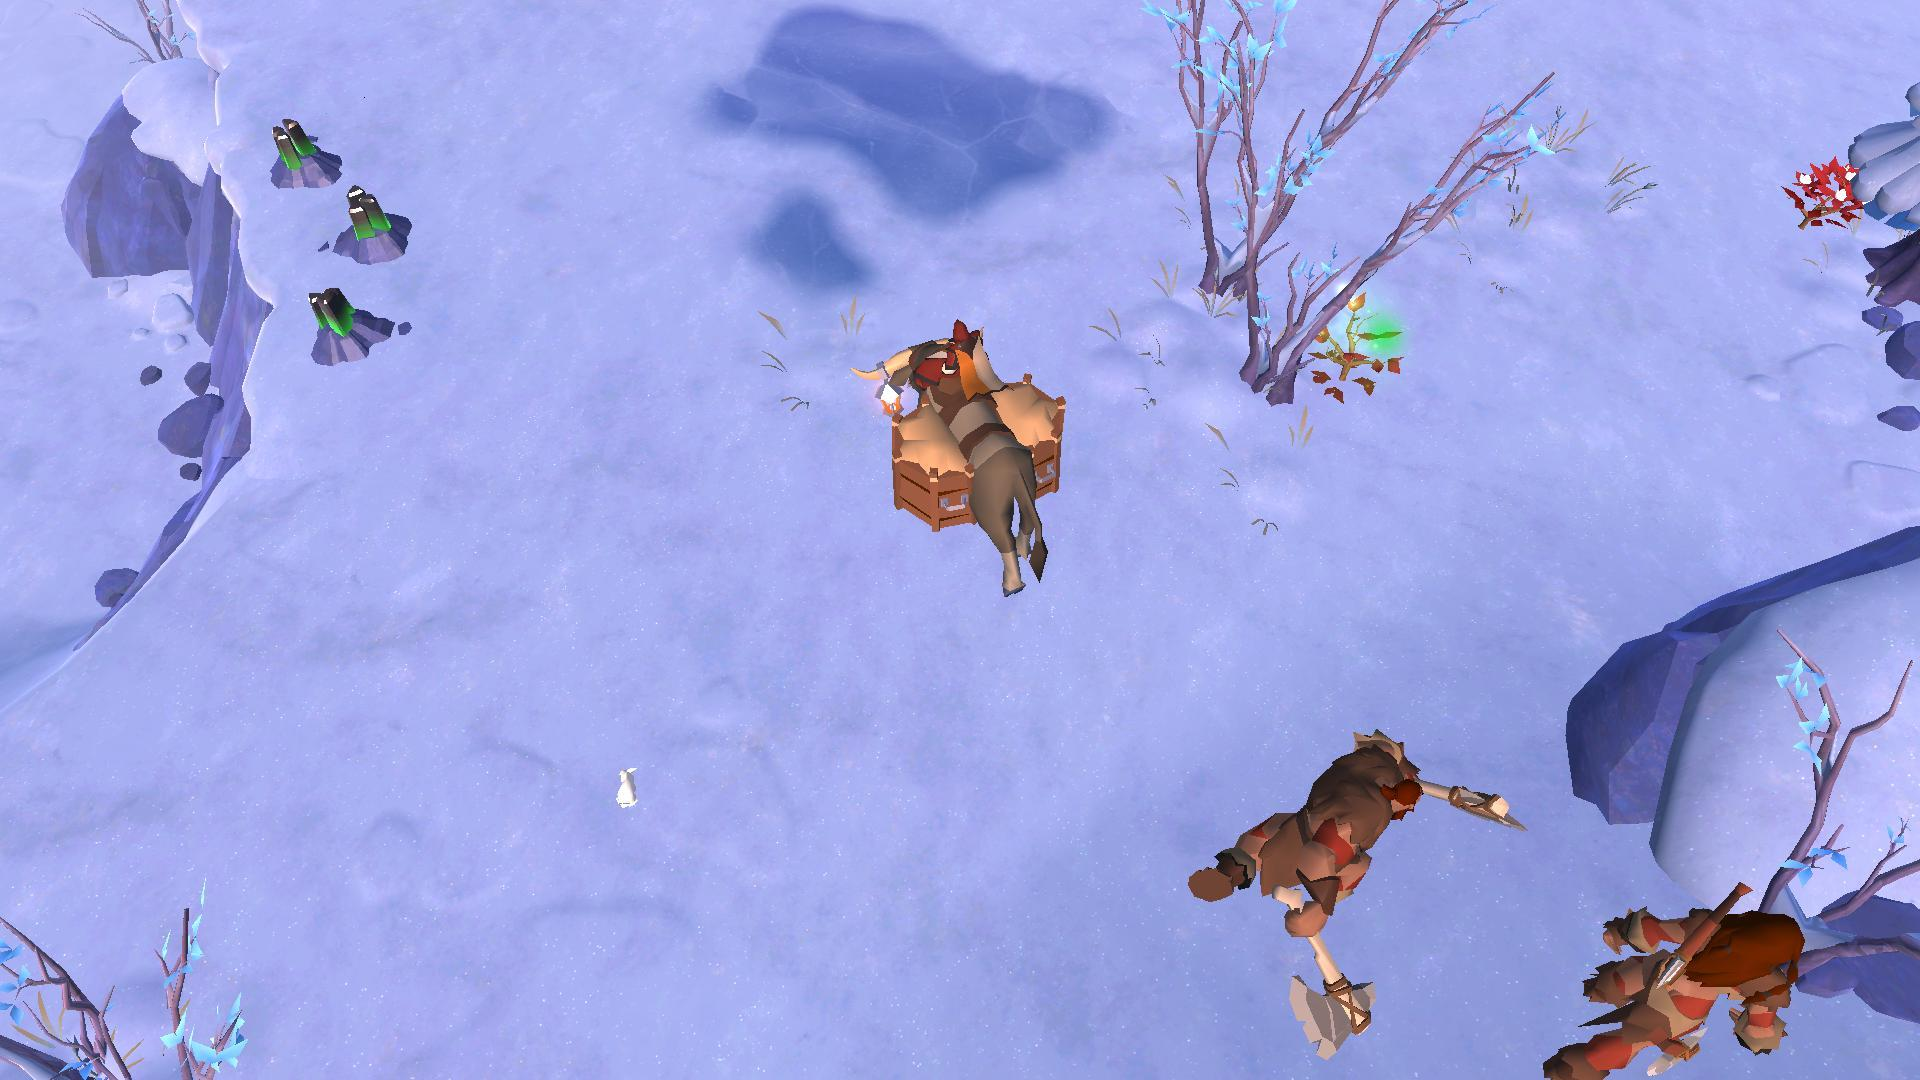enemy_factionKeeper: (1540, 894, 1807, 1080), (1205, 711, 1416, 924)
fiber_t5: (1791, 156, 1869, 235)
ore_t3: (301, 276, 359, 340), (268, 111, 318, 170), (340, 178, 394, 232)
